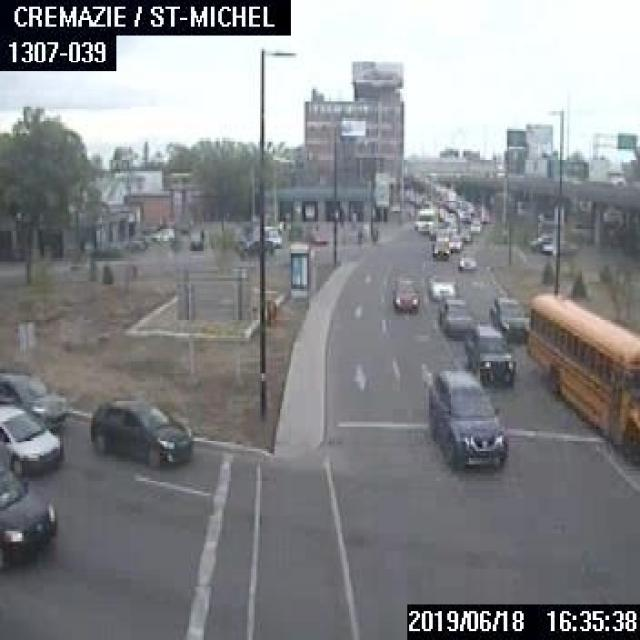bus: (528, 291, 638, 467)
vehicle: (428, 368, 504, 468), (0, 462, 71, 569), (89, 396, 193, 462), (0, 401, 62, 475), (0, 370, 64, 432), (464, 324, 514, 384), (488, 295, 527, 341), (437, 296, 473, 337), (588, 155, 624, 185), (389, 277, 418, 311), (426, 274, 456, 299), (239, 237, 272, 256), (416, 207, 437, 232), (529, 232, 550, 252), (431, 235, 449, 256), (149, 226, 174, 241), (456, 253, 478, 269), (187, 228, 204, 248), (448, 234, 462, 250), (469, 220, 480, 232)
